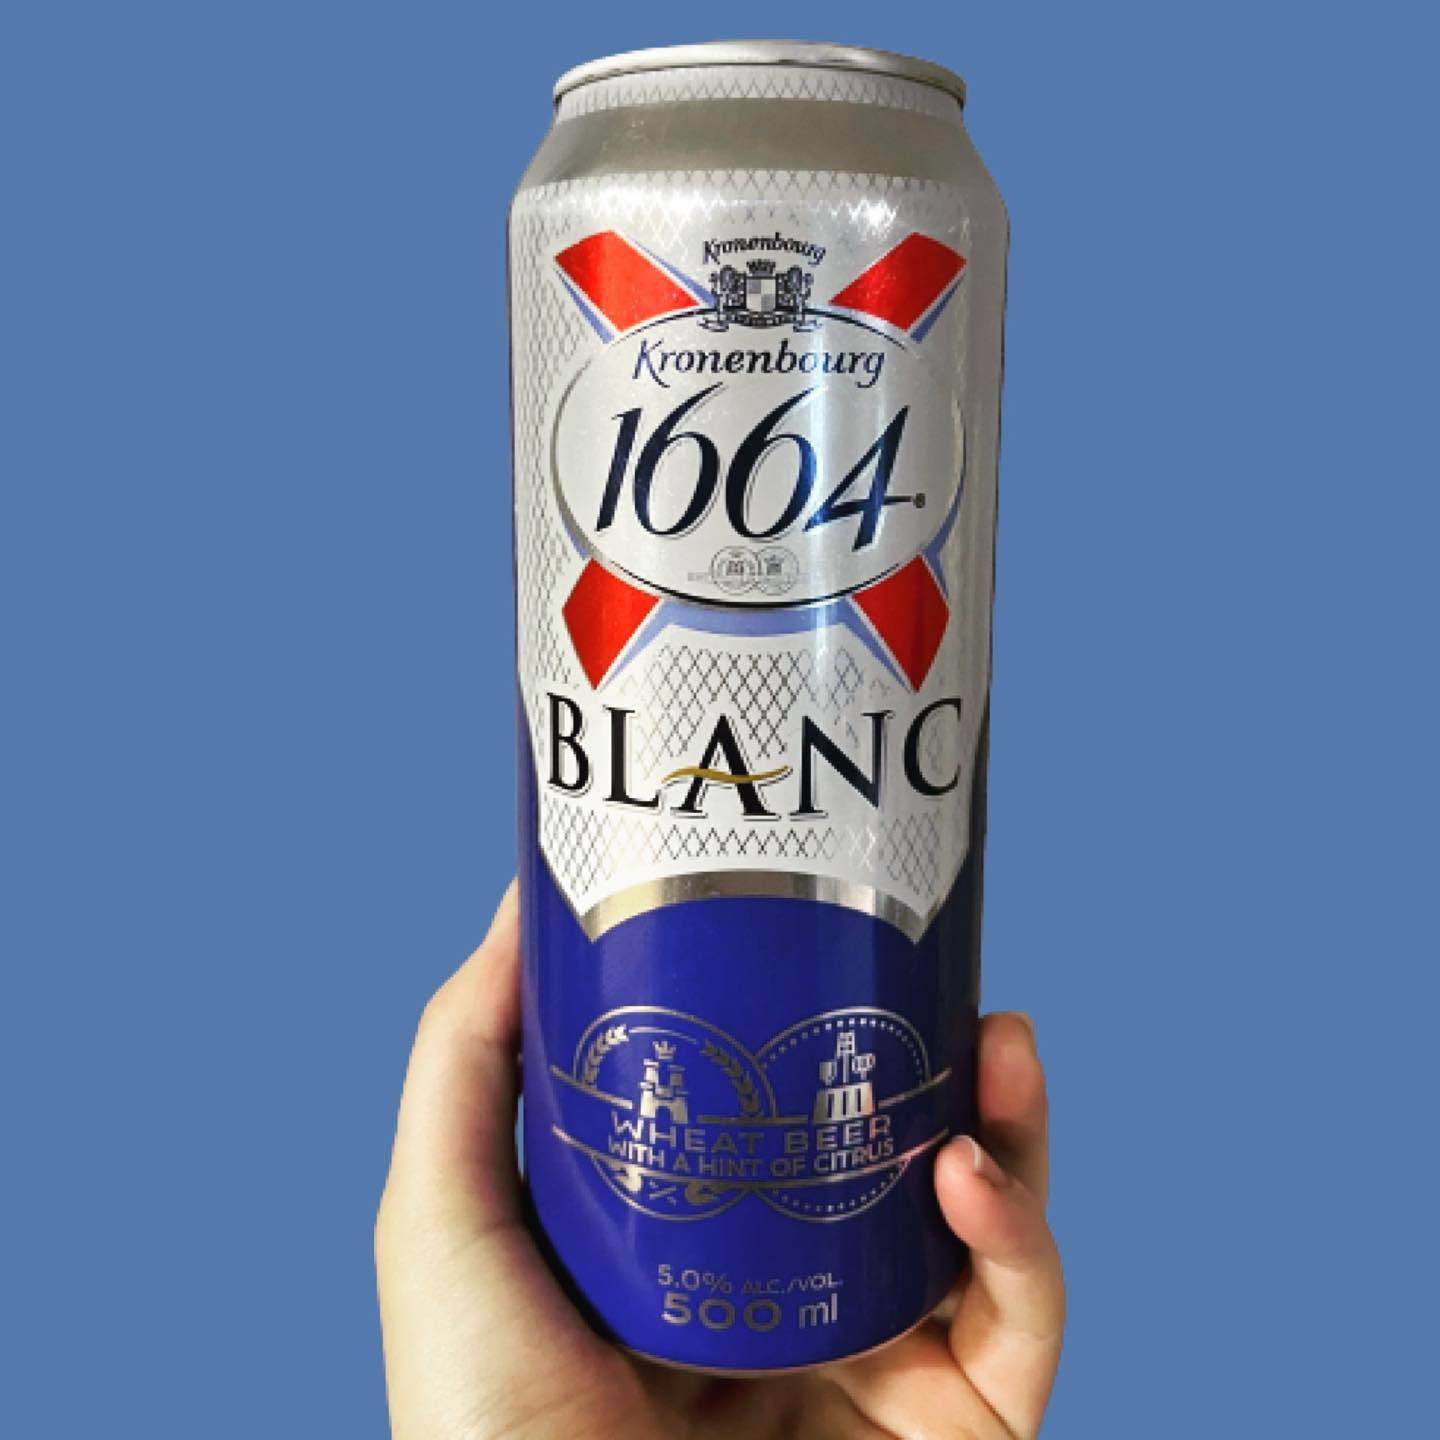alcohol: (497, 30, 1019, 1390)
